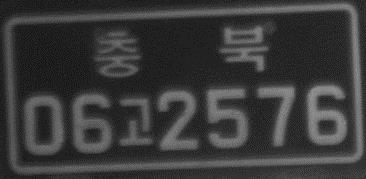0: (22, 92, 66, 158)
2: (153, 88, 200, 153)
5: (204, 86, 249, 151)
6: (303, 81, 349, 150), (70, 91, 114, 155)
7: (254, 83, 299, 149)
고: (115, 95, 156, 150)
충북_D: (93, 23, 269, 80)
